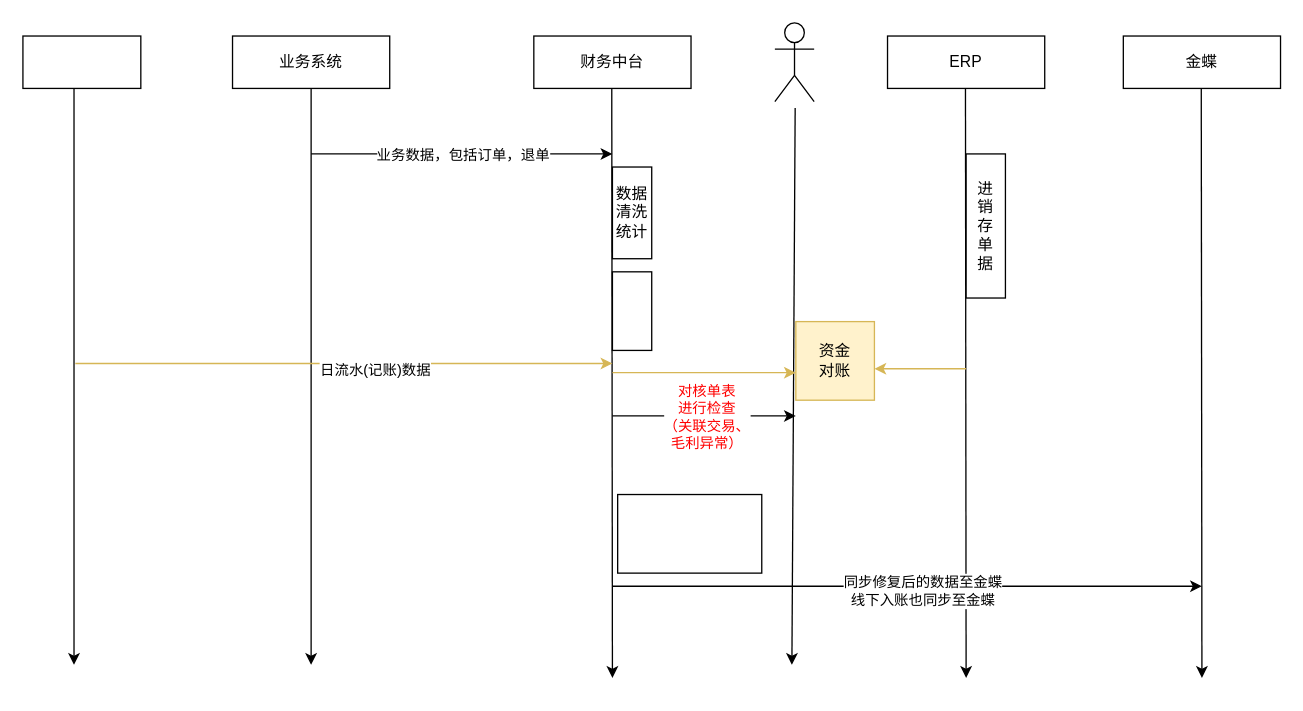
This 1303x711 diagram has some shape labels left out. Each missing label, with the centre of its shape:
Actor: point (794, 62)
数据修复 （可以修复的，重刷数据；不能的话走线下入账流程）: point (689, 533)
生成核单表: point (631, 310)
银行系统: point (81, 61)
